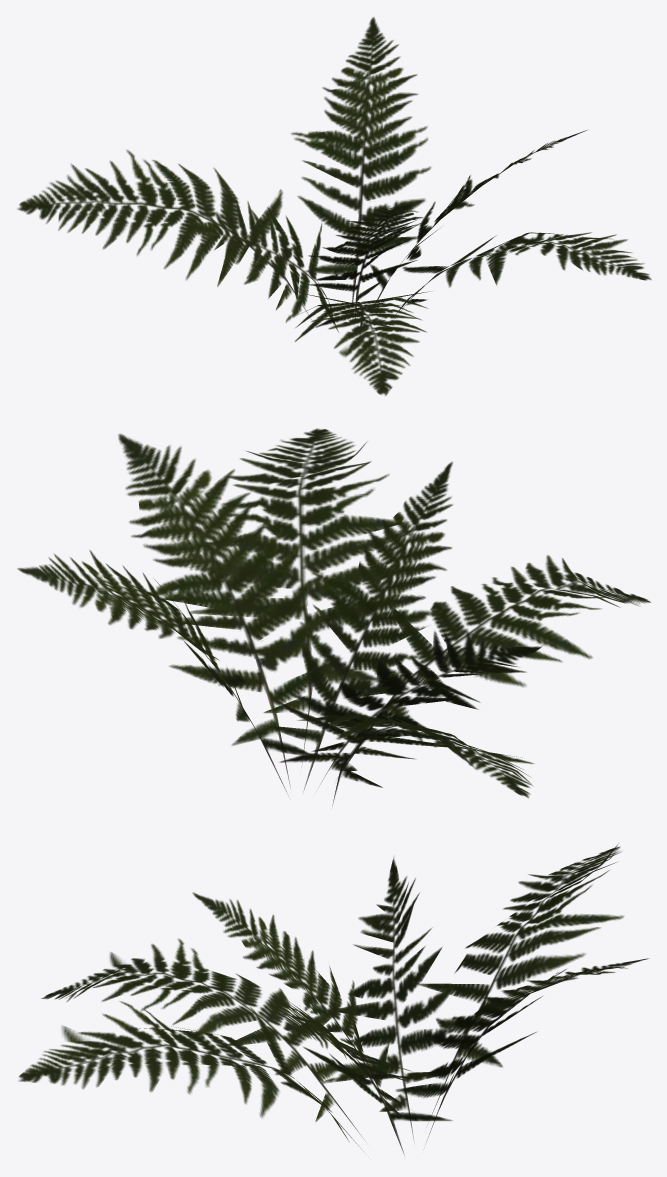
The model's file is veg-43.glb.
3 views of the same model, one above another, from view 1: azimuth 30°, elevation 25°; view 2: azimuth 150°, elevation 25°; view 3: azimuth 270°, elevation 25° (orthographic). The views are drawn at different scales.
Parts seen in each view (by area): view 1: _2f97_VarF_LOD2_43; view 2: _2f97_VarF_LOD2_43; view 3: _2f97_VarF_LOD2_43.
Boxes of the visible parts, bbox=[...] form: _2f97_VarF_LOD2_43: bbox=[17, 17, 651, 395]; _2f97_VarF_LOD2_43: bbox=[17, 428, 650, 805]; _2f97_VarF_LOD2_43: bbox=[19, 843, 648, 1154].
Bounding box in the file's own units: 0.6311 × 0.2919 × 0.6286.
1 material, 1 textured.
